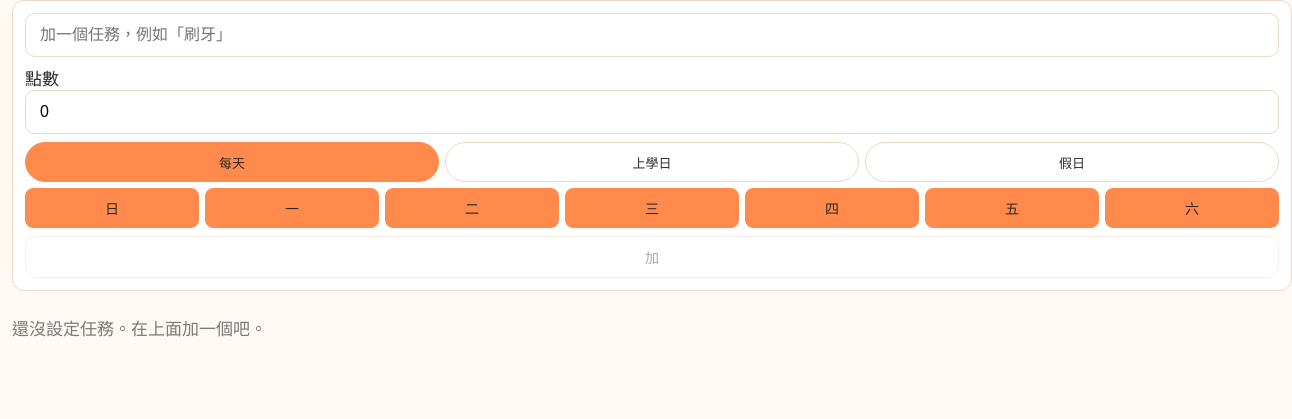
Test: TasksPage › switches schedule to school-days via preset
Type "寫聯絡簿" into the field named "新任務".
click(652, 35); type("寫聯絡簿")  # box [25,13,1279,57]
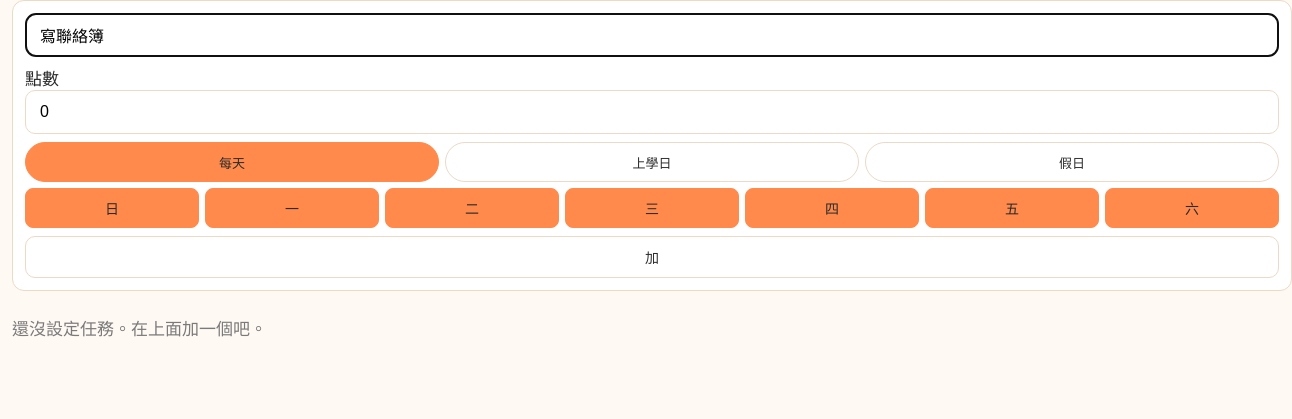
Click the button "上學日".
click(652, 162)  # box [445,142,859,182]
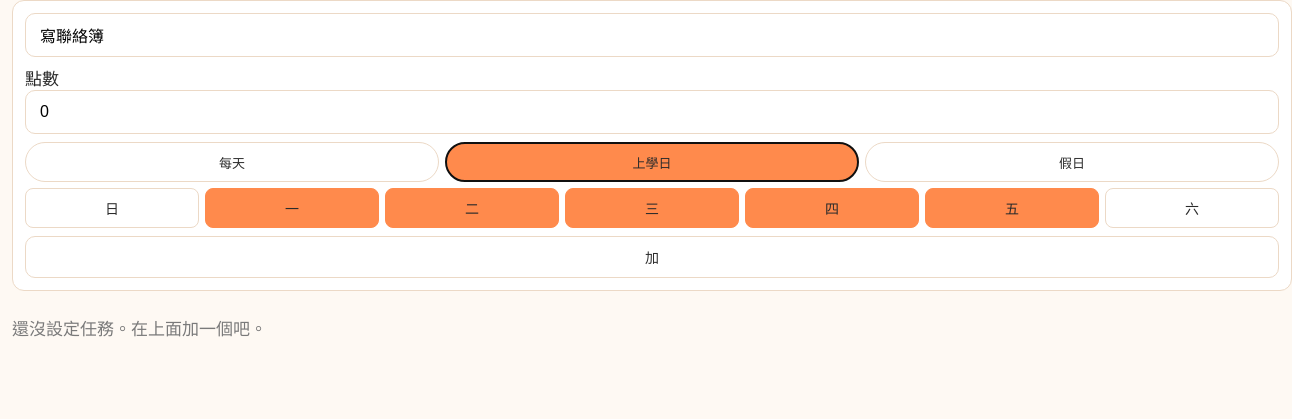
Click the button "加".
click(652, 257)  # box [25,236,1279,278]
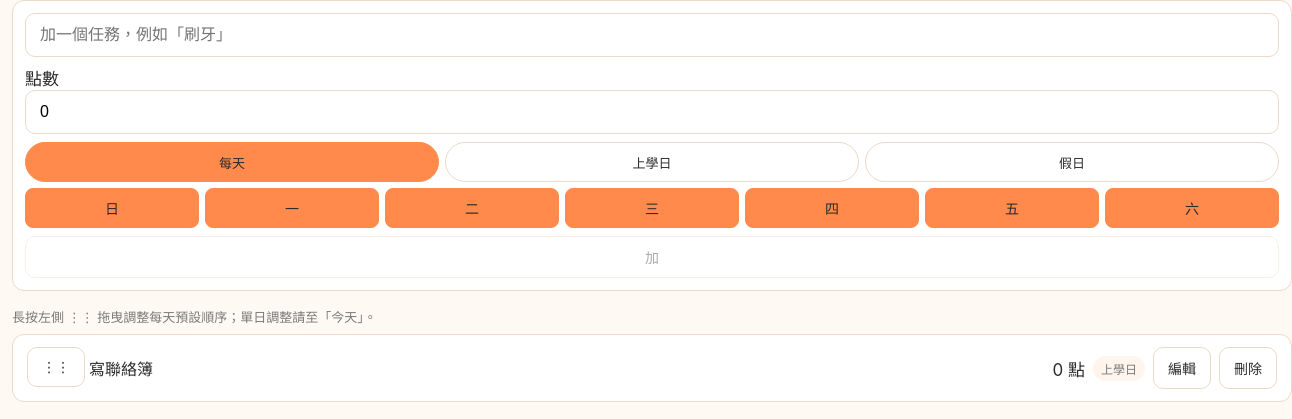
Result: the text "寫聯絡簿" is shown at [89,359,153,379]
Result: the text named "排程" reads "上學日" at [1101,362,1137,376]
